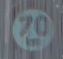Speed limit: (5, 2, 58, 50)
